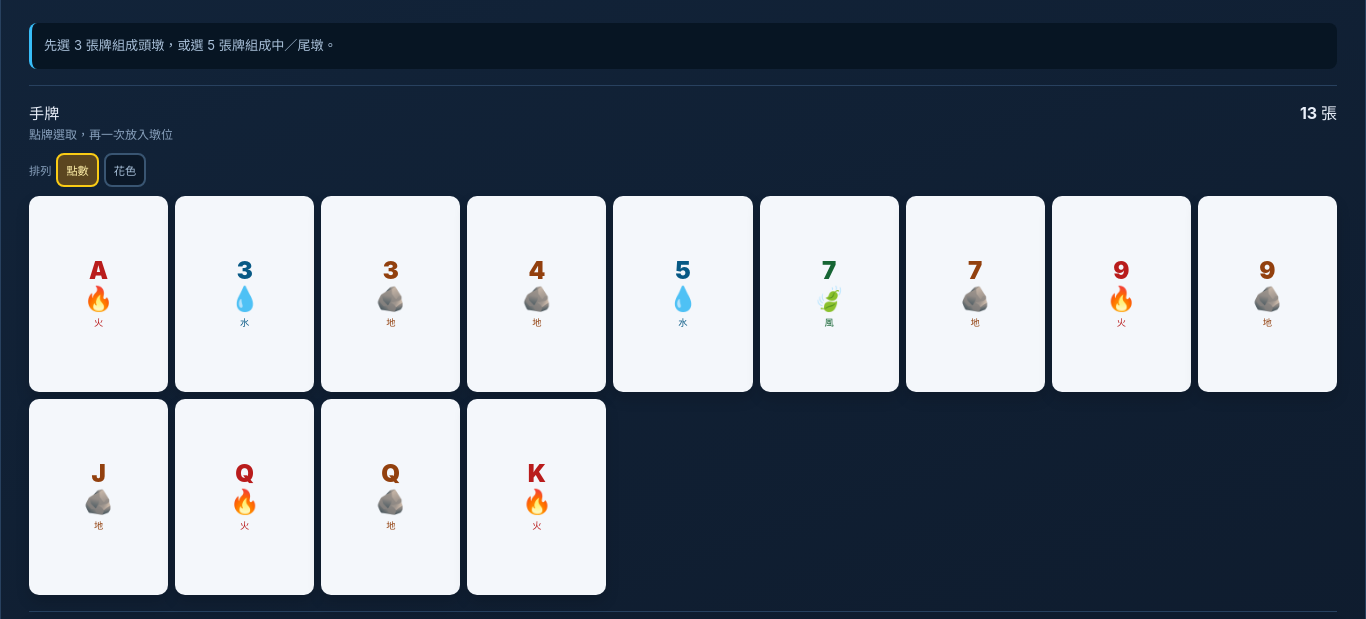
Test: P0BattleLab › lets a player select three cards and place them into a lane at once
Click the button "A 🔥 火". click: (99, 294)
box: [29,196,168,392]
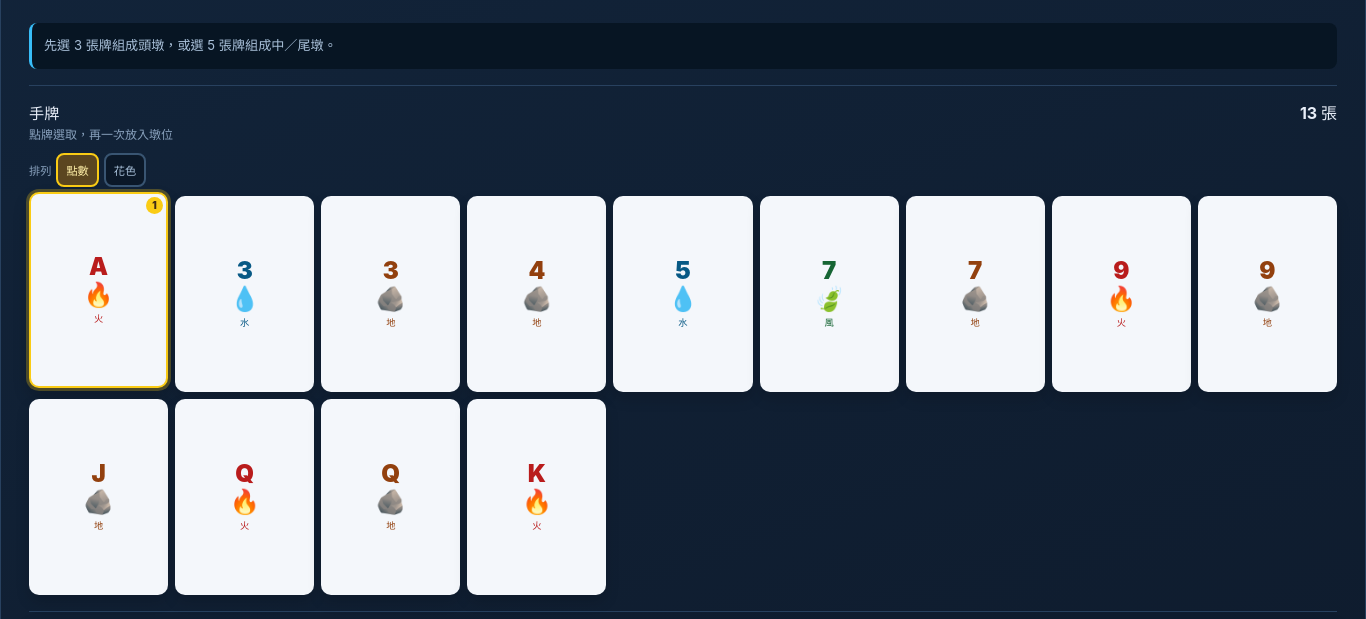
Click the button "3 💧 水". click: (245, 294)
box: [175,196,314,392]
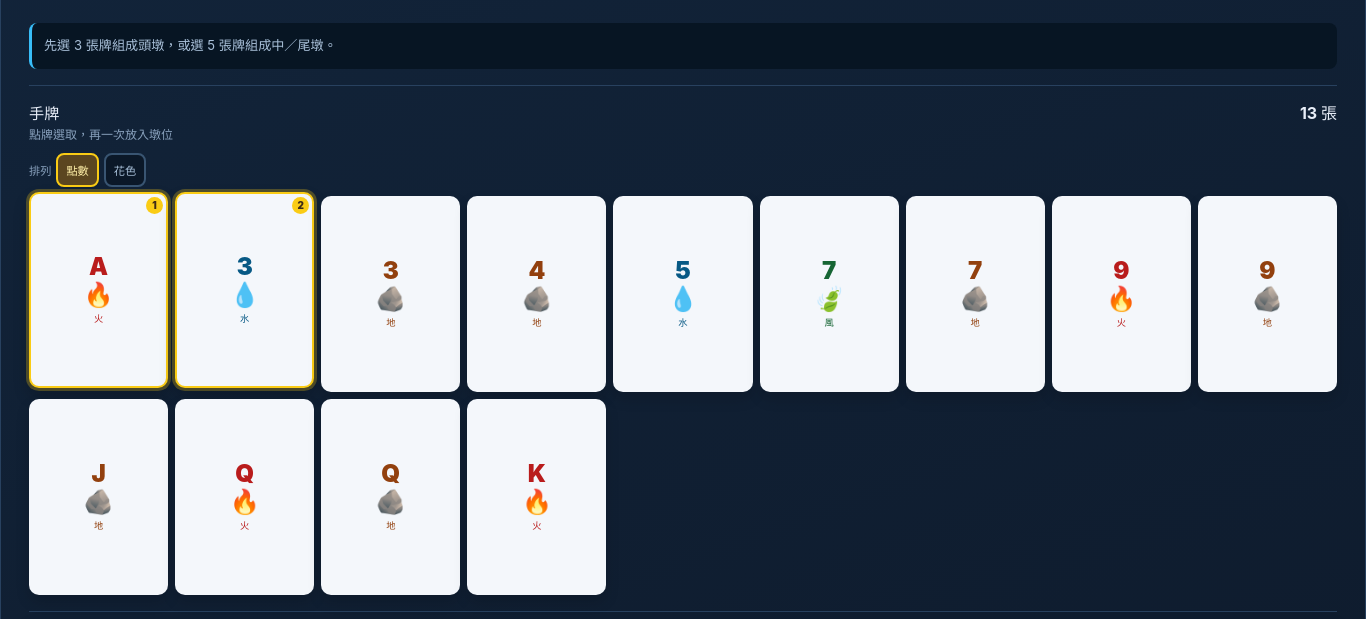
Click the button "3 🪨 地". click: (391, 294)
box: [321,196,460,392]
(page scrolled)
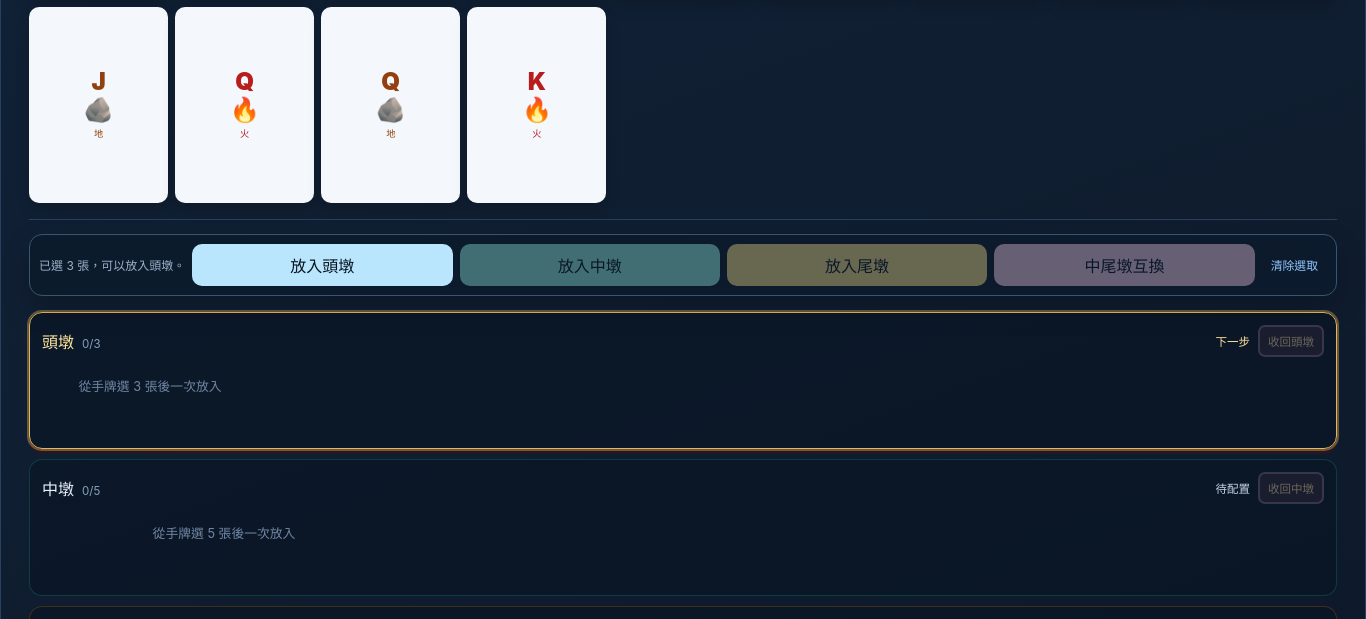
Expected: the button "放入頭墩" is enabled
Click the button "放入頭墩". click: (322, 265)
box: [192,244,453,286]
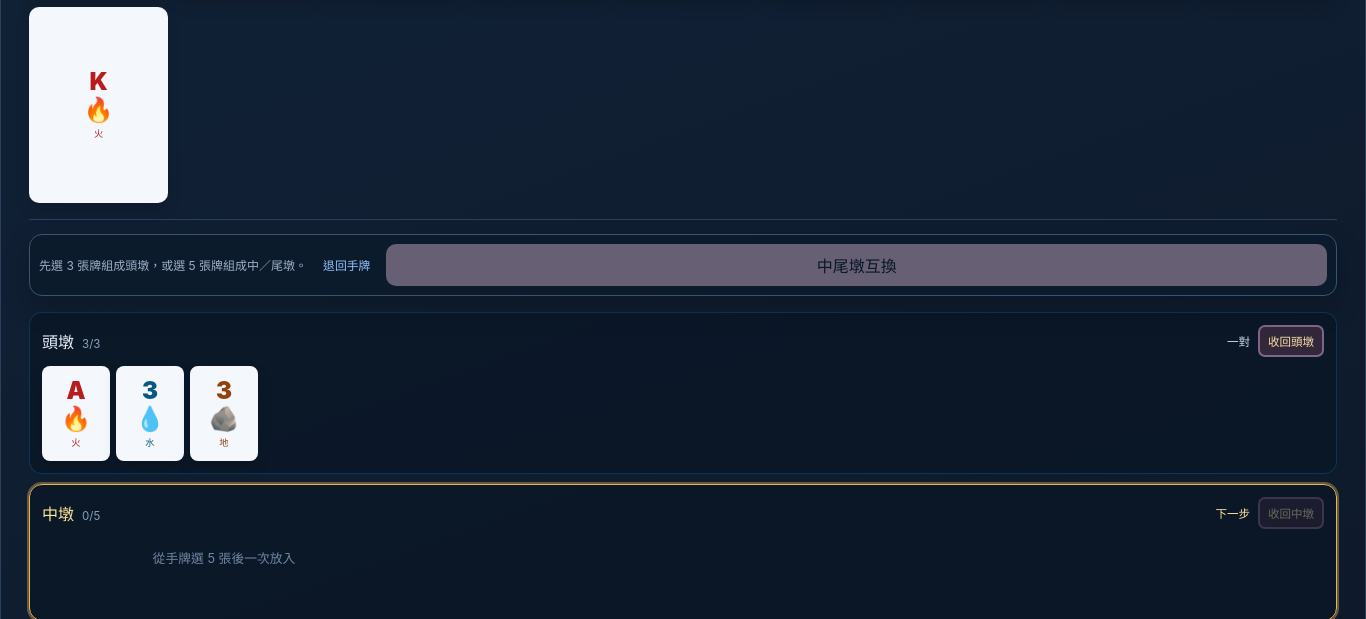
Expected: the text "頭墩" is shown, [42,329,74,353]
Expected: the text "3/3" is shown, [82,337,100,351]
